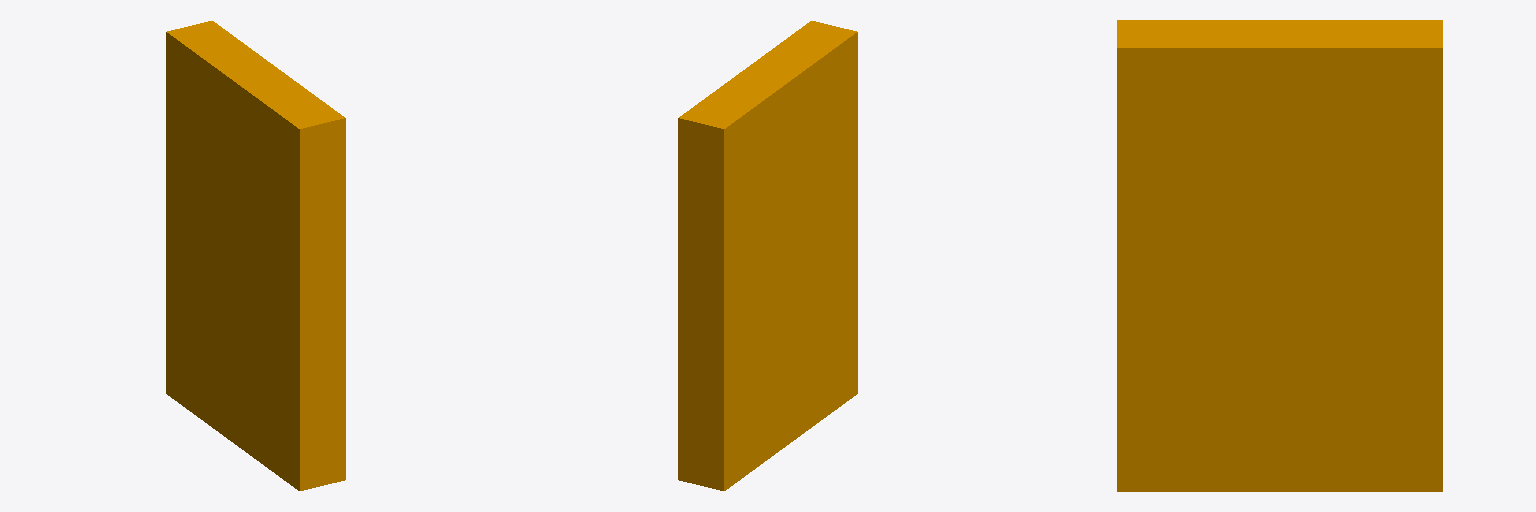
URDF robot description (goldengrahams):
<robot name="goldengrahams">
	<link name="goldengrahams">
		<inertial>
			<origin xyz="0 0 0" rpy="0 0 0" />			
			<mass value="0.5" />
			<!-- center of mass (com) is defined w.r.t. link local coordinate system -->
			<origin xyz="0 0 0" />
			<inertia  ixx="0.0" ixy="0.0"  ixz="0.0"  iyy="0.0"  iyz="0.0"  izz="0.0" />
		</inertial>
		<visual>
			<origin xyz="0 0 0" rpy="0 0 0" />
			<geometry>
				<box size="0.04 0.2 0.3" />
			</geometry>
		</visual>
		<collision>
			<origin xyz="0 0 0" rpy="0 0 0" />
			<geometry>
				<box size="0.04 0.2 0.3" />
			</geometry>
		</collision>
	</link>

	<gazebo reference="goldengrahams">
		<material>Custom/goldengrahams</material>
	</gazebo>
</robot>

--- Render facts (derived) ---
3 views of the same robot in one strip: view 1: azimuth 30°, elevation 25°; view 2: azimuth 150°, elevation 25°; view 3: azimuth 270°, elevation 25° (orthographic).
Model goldengrahams with 1 links and 0 joints (none), rooted at goldengrahams, posed every joint at zero.
Links seen in each view (by area): view 1: goldengrahams; view 2: goldengrahams; view 3: goldengrahams.
Boxes of the visible links, <box> form: goldengrahams: <box>166,21,345,490</box>; goldengrahams: <box>678,21,857,490</box>; goldengrahams: <box>1117,20,1442,491</box>.
Size in the robot's own frame: 0.04 by 0.2 by 0.3 metres.
Geometry: primitives only (box / cylinder / sphere), no mesh files.